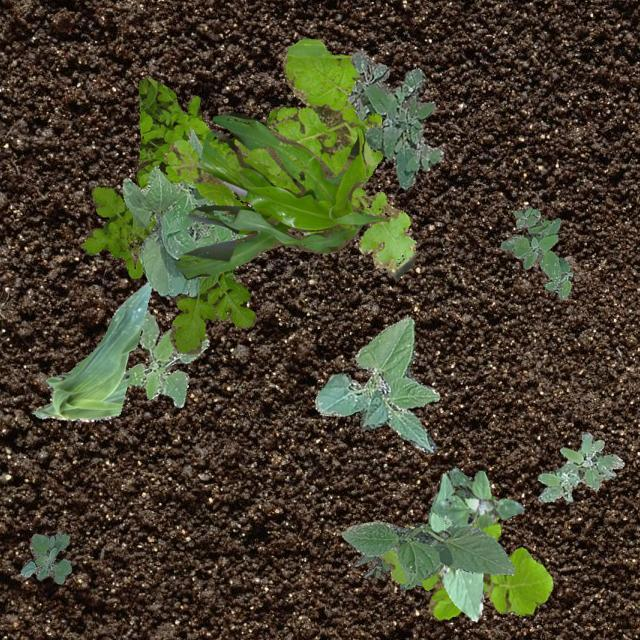crop: (173, 112, 384, 278), (122, 128, 248, 296), (314, 316, 438, 452), (31, 280, 150, 420), (340, 520, 514, 588), (428, 472, 483, 620)
weed: (162, 38, 416, 278), (80, 185, 254, 352), (136, 76, 296, 200), (380, 522, 552, 618), (346, 48, 442, 188), (124, 308, 208, 406), (499, 204, 572, 298), (536, 432, 622, 501), (432, 467, 524, 528), (353, 552, 421, 592), (20, 532, 70, 582)
